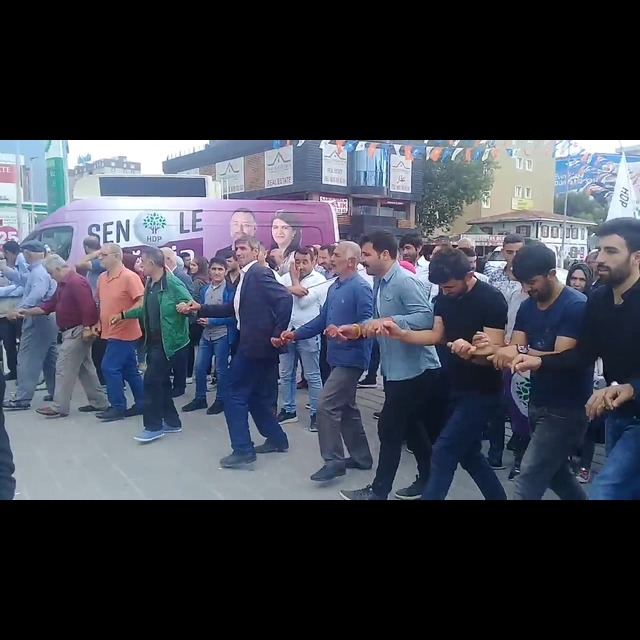HDP: (140, 210, 168, 235)
